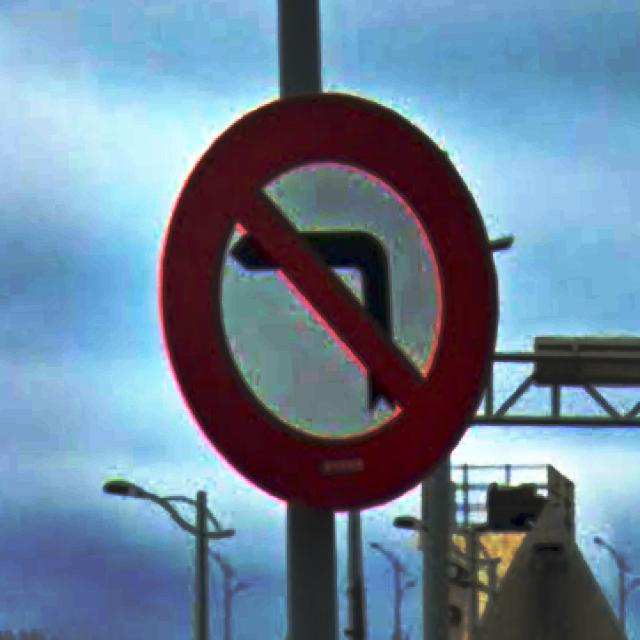noturnleft: (156, 89, 498, 511)
